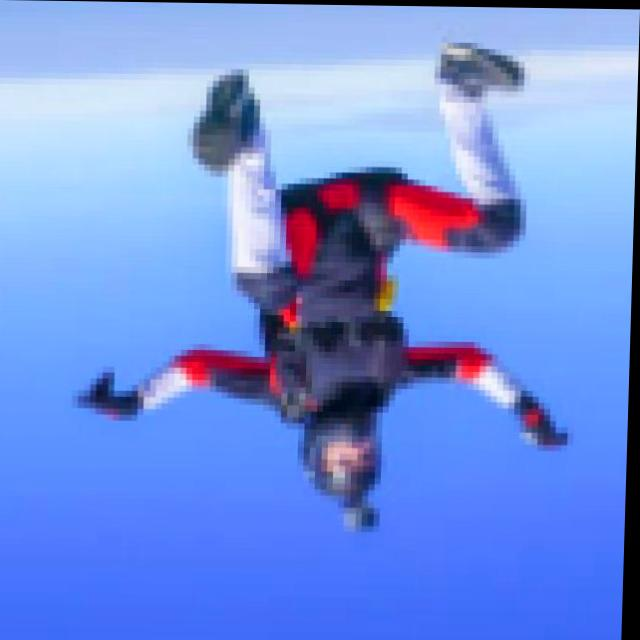fall: (65, 43, 579, 548)
